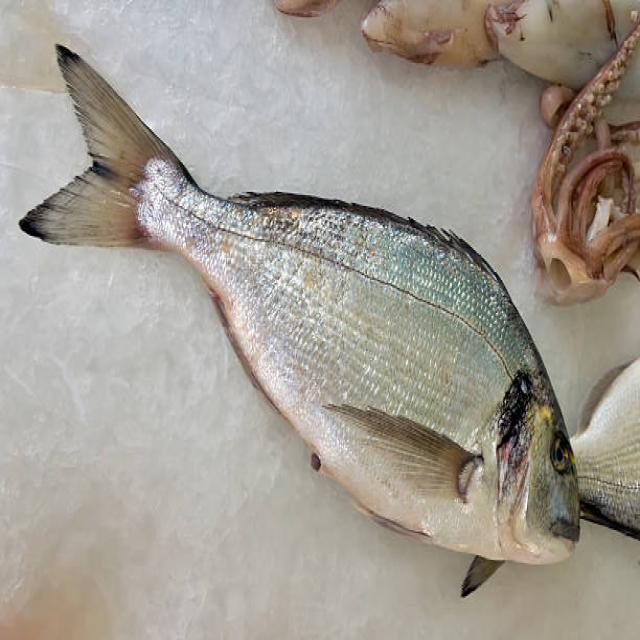Healthy Fish: (19, 43, 582, 596)
